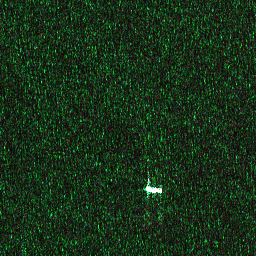ship: (143, 183, 165, 195)
